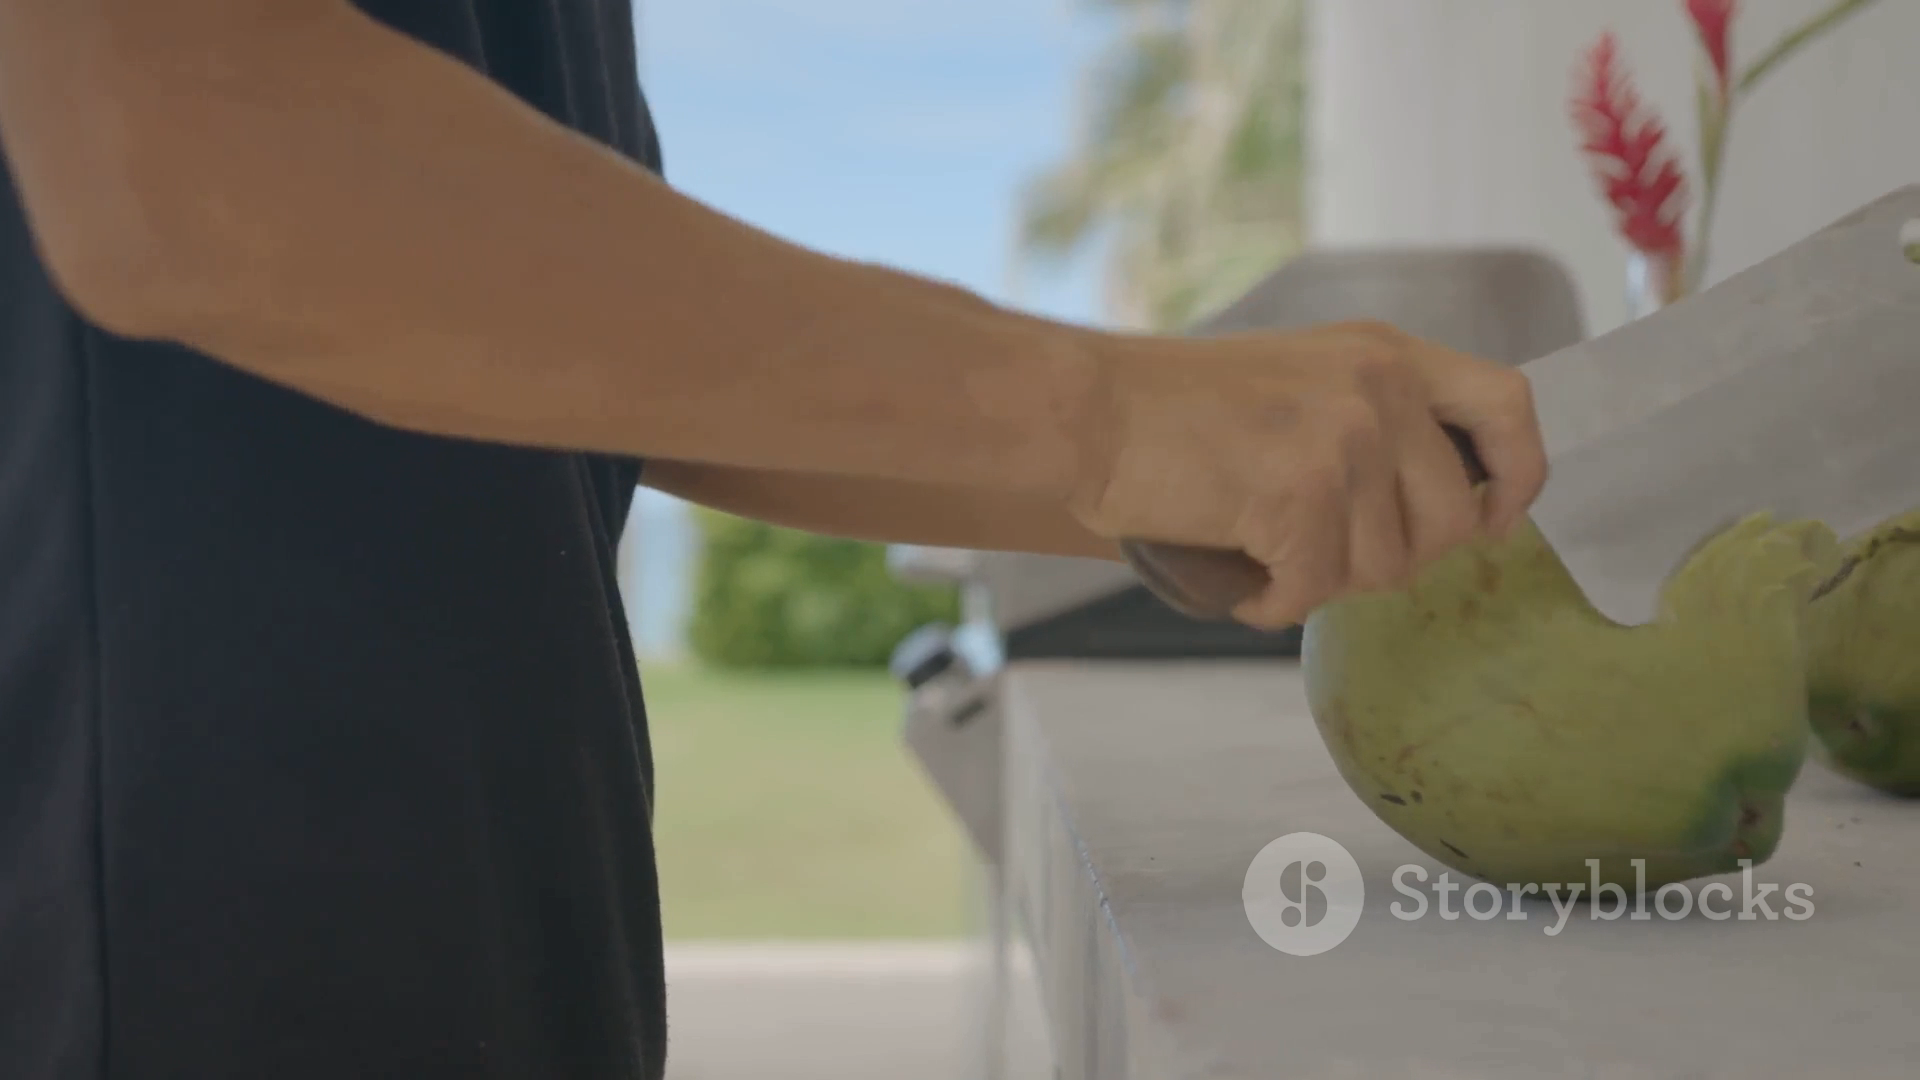cortante: (1523, 183, 1920, 626)
